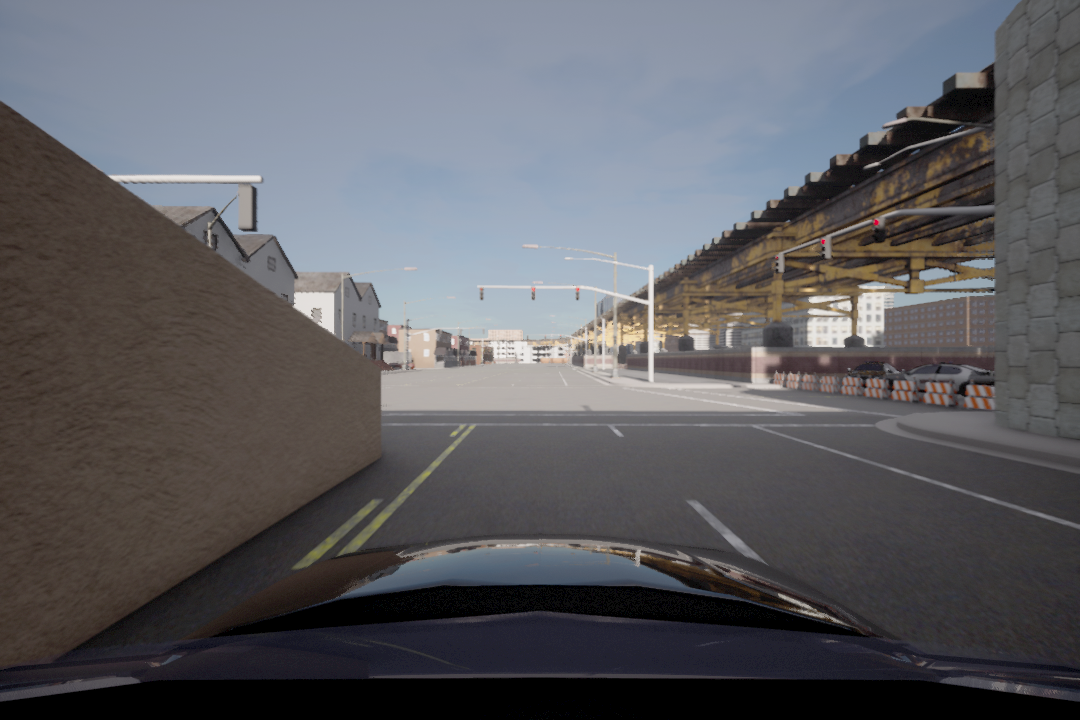TrafficLight: (872, 215, 887, 244), (818, 235, 831, 262), (771, 253, 784, 274), (477, 285, 488, 301), (574, 286, 581, 302), (530, 284, 536, 301)
